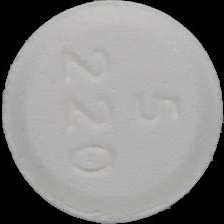33261-964: (0, 0, 224, 224)
